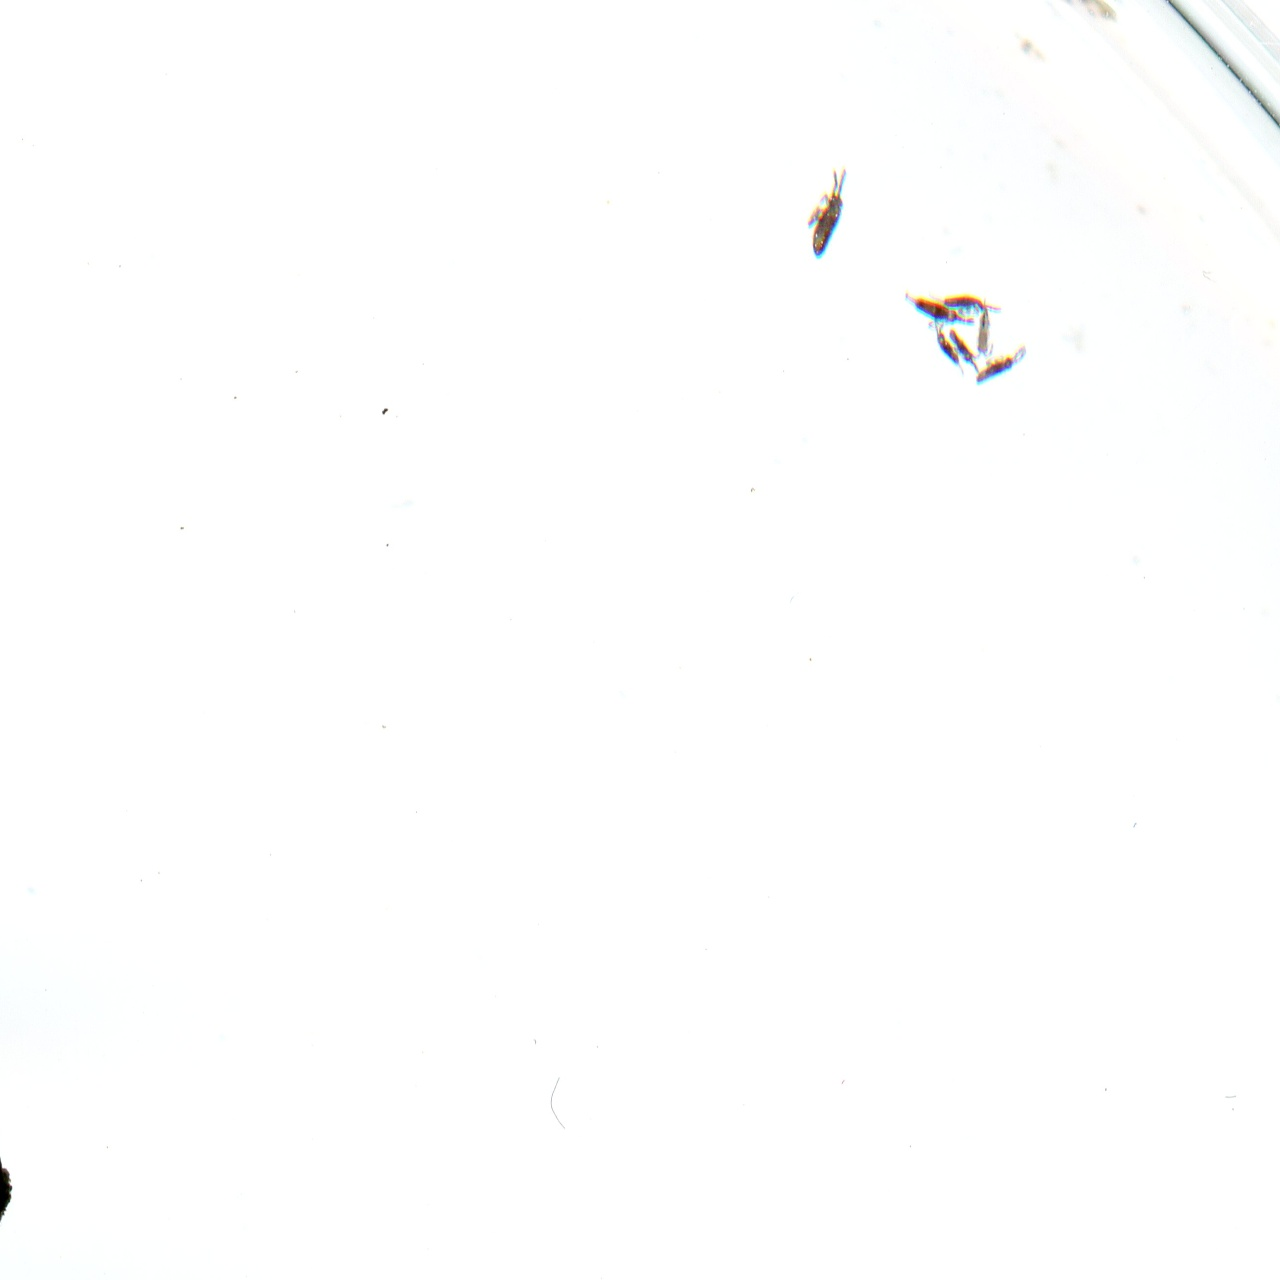arthropod: (790, 159, 865, 274), (893, 287, 985, 345), (968, 340, 1035, 388), (928, 314, 967, 382), (946, 321, 989, 380), (971, 297, 995, 361), (942, 293, 1003, 318)
